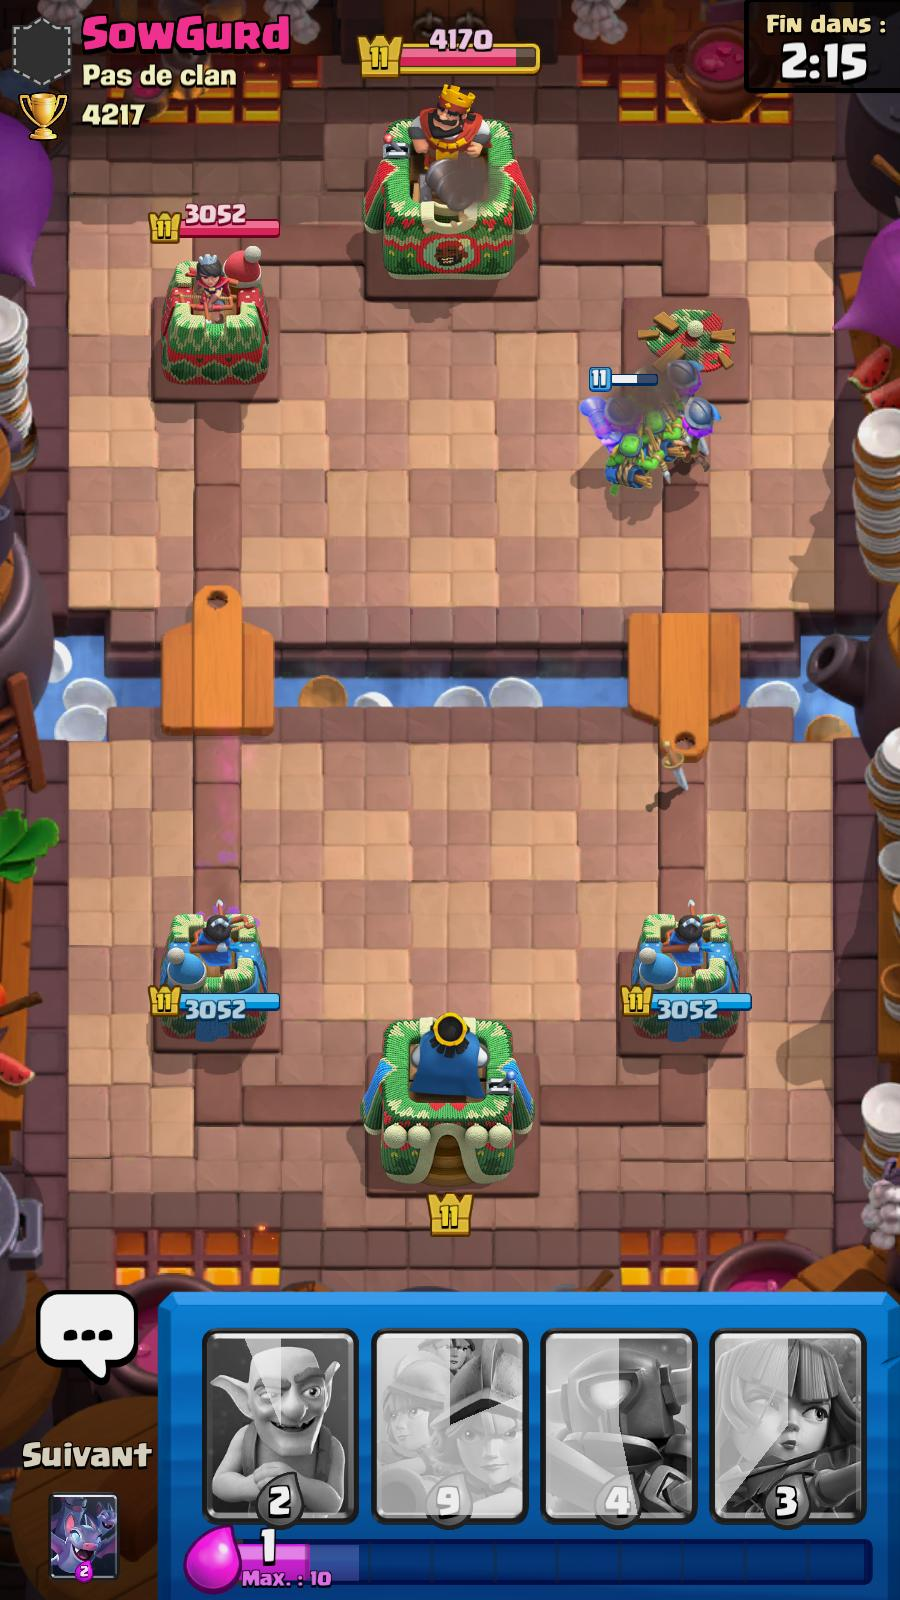gobelin_lances: (615, 424, 666, 493), (631, 405, 685, 467)
mousquetaire: (586, 364, 643, 451), (665, 385, 720, 469), (655, 349, 705, 405)
